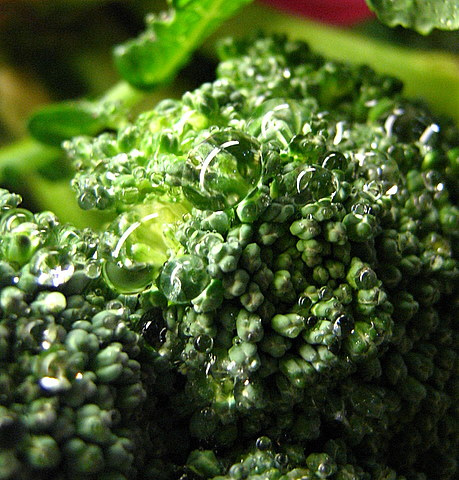broccoli: (158, 106, 418, 418), (0, 187, 179, 478)
